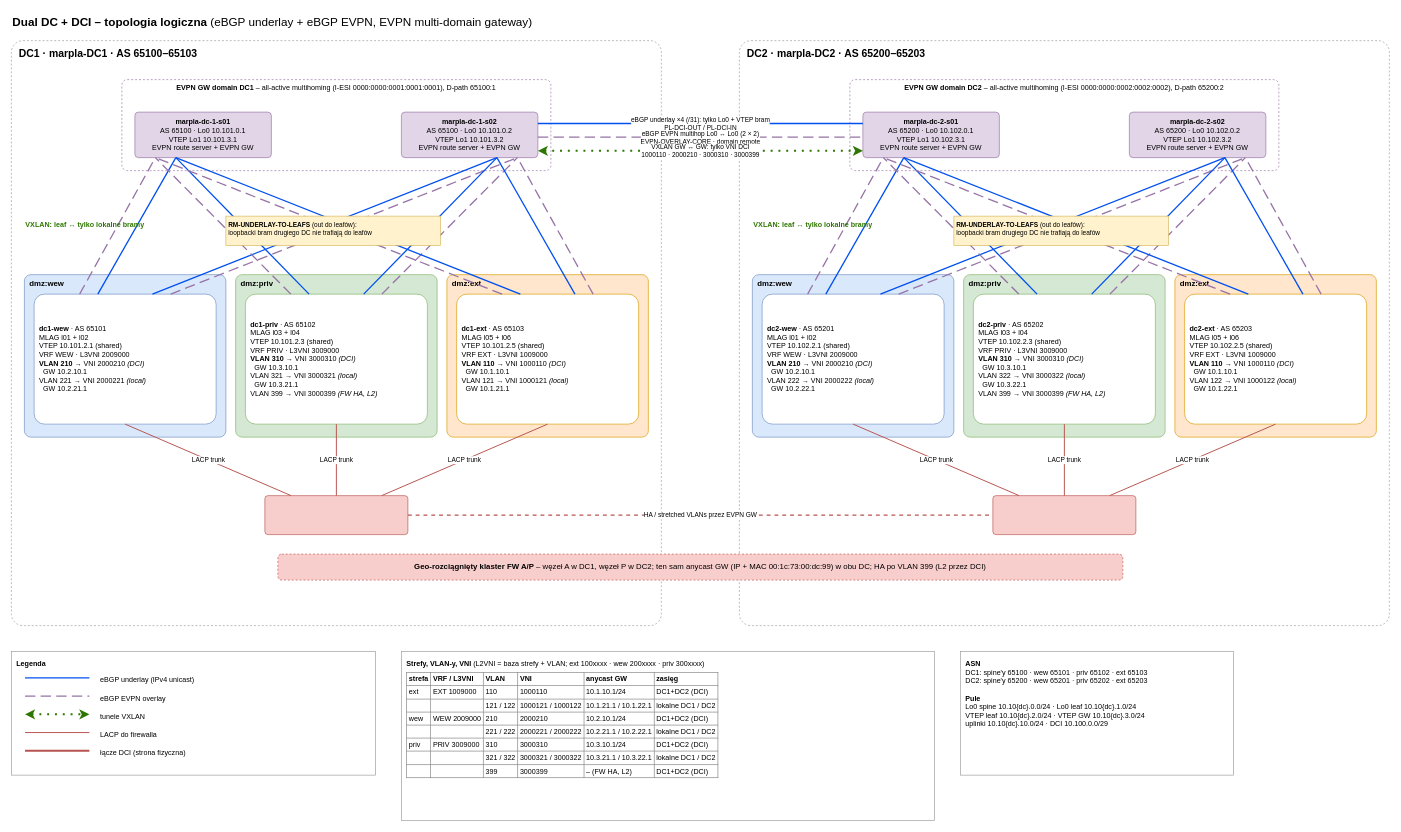
Image size: 1401x832. Some labels were removed from this diagram. Here are the shapes that lost their labels. From the top down, the centre of each, then its label:
At point 336,515: "marpla-dc-1-fw01 FW cluster node (A) mgmt 10.30.19.1 · .11 in zone VLANs".
At point 1064,515: "marpla-dc-2-fw01 FW cluster node (P) mgmt 10.30.29.1 · .12 in zone VLANs".
